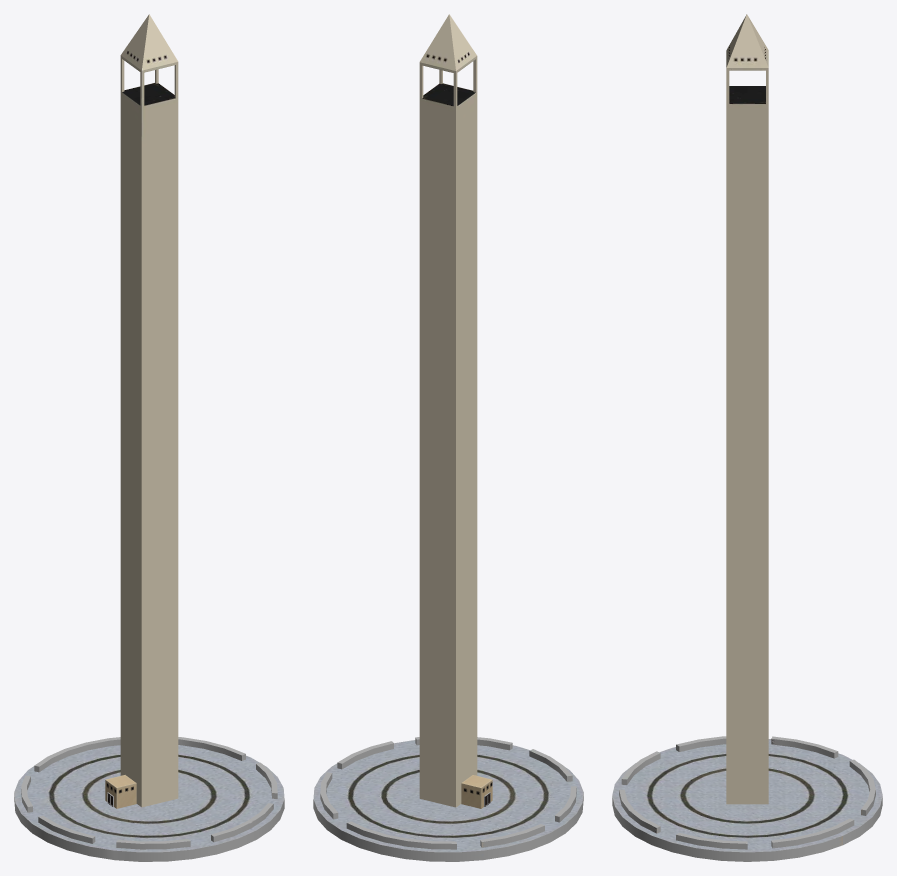
3 views of the same model, side by side, from view 1: azimuth 30°, elevation 25°; view 2: azimuth 150°, elevation 25°; view 3: azimuth 270°, elevation 25° (orthographic).
Parts seen in each view (by area): view 1: Monument; view 2: Monument; view 3: Monument.
Part boxes in pixels (x1,y1,x2,y2): Monument: (14, 14, 284, 861); Monument: (313, 14, 583, 861); Monument: (612, 14, 882, 861).
Bounding box in the file's own units: 1288 × 4153 × 1288.
Materials: 2 (2 with a texture image).
